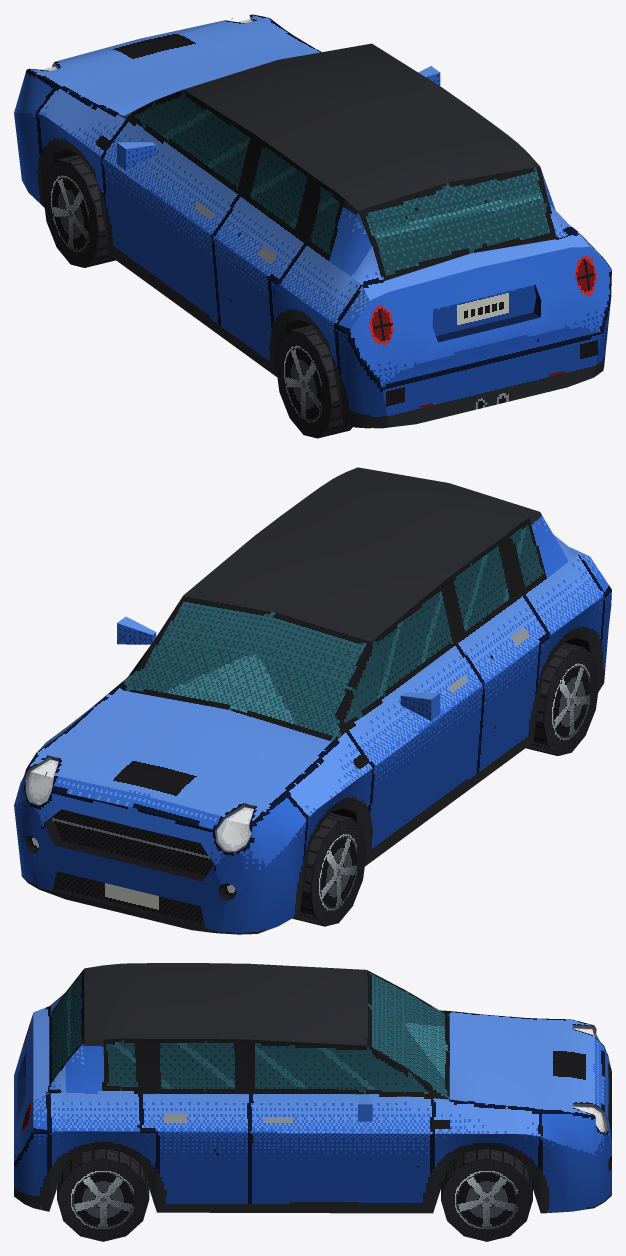
File: mini_f55_2018.glb
3 renders of one model, top to bottom at view 1: azimuth 30°, elevation 25°; view 2: azimuth 150°, elevation 25°; view 3: azimuth 270°, elevation 25°, orthographic. The views are drawn at different scales.
Parts seen in each view (by area): view 1: body, tailgate, door_FL, door_RL, bumper_R, hood, wheel_RL, wheel_FL, fender_FL, bumper_F, mirror_L; view 2: body, bumper_F, hood, door_FL, door_RL, wheel_FL, wheel_RL, fender_FL, headlight_L, headlight_R, mirror_L, mirror_R (+1 smaller); view 3: body, door_FR, door_RR, hood, bumper_F, wheel_RR, wheel_FR, tailgate, fender_FR, bumper_R, headlight_R.
Part boxes in pixels (x1,y1,x2,y2): body: (52,43,578,422); tailgate: (335,166,611,386); door_FL: (101,89,253,335); door_RL: (212,134,320,376); bumper_R: (335,299,610,428); hood: (27,14,321,115); wheel_RL: (275,325,352,438); wheel_FL: (42,154,115,267); fender_FL: (36,86,127,254); bumper_F: (14,70,57,207); mirror_L: (117,142,156,170); body: (118,467,604,865); bumper_F: (14,768,307,934); hood: (26,686,337,868); door_FL: (339,582,484,865); door_RL: (442,533,550,783); wheel_FL: (292,813,366,926); wheel_RL: (526,643,599,755); fender_FL: (286,731,373,912); headlight_L: (215,804,254,852); headlight_R: (25,756,59,805); mirror_L: (400,692,440,720); mirror_R: (117,616,156,644); body: (49,963,524,1211); door_FR: (250,1039,432,1213); door_RR: (141,1038,250,1212); hood: (449,1011,604,1116); bumper_F: (540,1047,611,1213); wheel_RR: (57,1149,149,1241); wheel_FR: (441,1149,532,1241); tailgate: (14,969,84,1163); fender_FR: (433,1098,540,1212); bumper_R: (14,1132,49,1211); headlight_R: (573,1103,607,1133).
Bounding box in the file's own units: 2 × 1.42 × 4.
Materials: 2 (2 with a texture image).
